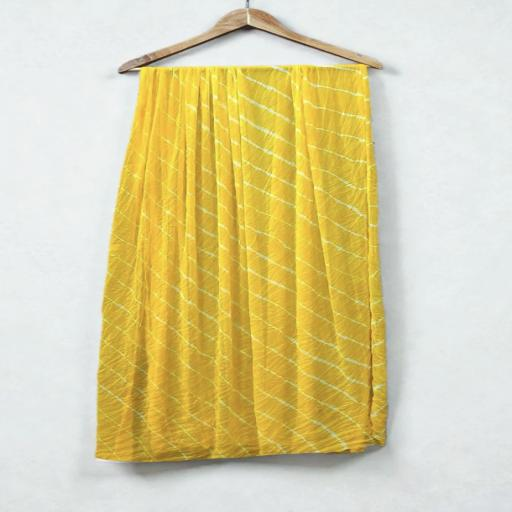Dupatta: (96, 8, 417, 468)
